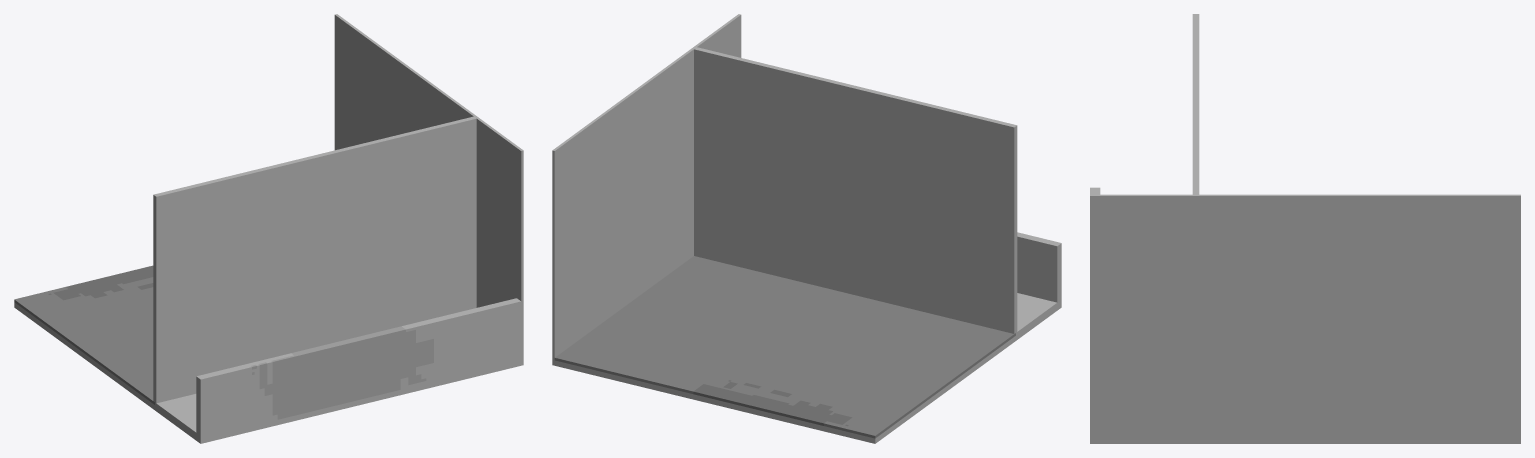
File: 4x2 fourth (1)-6.obj
3 renders of one model, left to right at view 1: azimuth 30°, elevation 25°; view 2: azimuth 150°, elevation 25°; view 3: azimuth 270°, elevation 25°, orthographic. The views are drawn at different scales.
Parts seen in each view (by area): view 1: 4x2 fourth (1)-6; view 2: 4x2 fourth (1)-6; view 3: 4x2 fourth (1)-6.
Part boxes in pixels (bbox=[...]): 4x2 fourth (1)-6: bbox=[14, 14, 523, 443]; 4x2 fourth (1)-6: bbox=[552, 14, 1061, 443]; 4x2 fourth (1)-6: bbox=[1090, 14, 1520, 443].
Size of the model in its own units: 126 by 80 by 126.
1 material, 1 textured.
